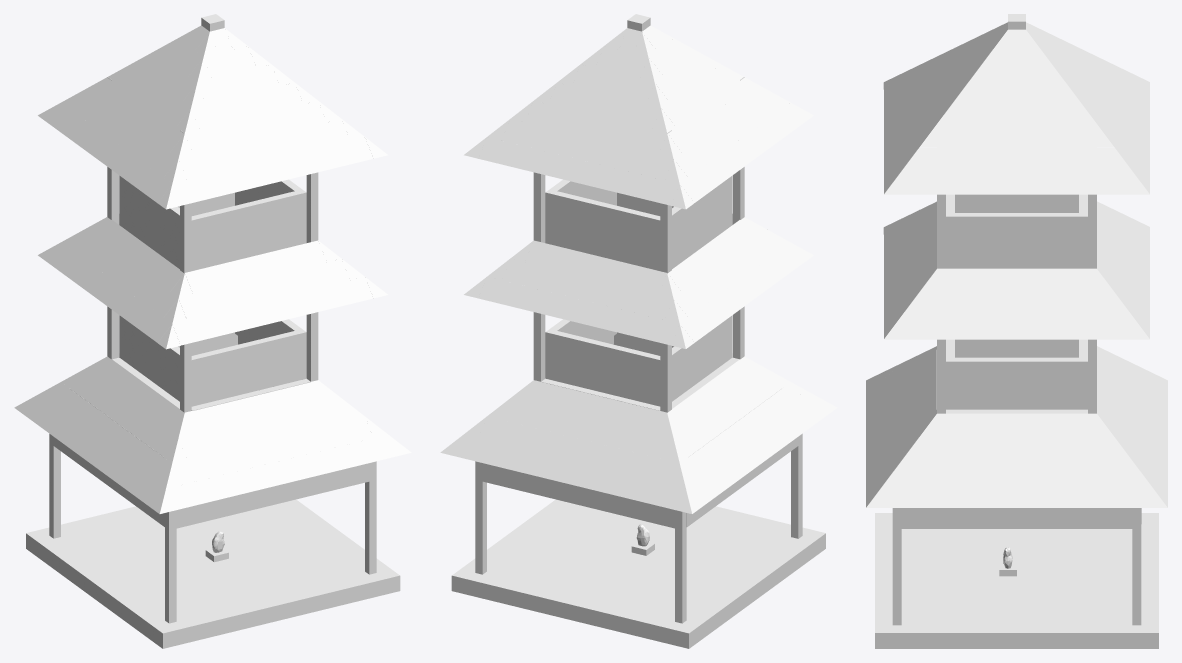
Rendered from start-movie01.glb.
3 renders of one model, left to right at view 1: azimuth 30°, elevation 25°; view 2: azimuth 150°, elevation 25°; view 3: azimuth 270°, elevation 25°, orthographic. The views are drawn at different scales.
Parts seen in each view (by area): view 1: ekihis; view 2: ekihis; view 3: ekihis.
Part boxes in pixels (x1,y1,x2,y2): ekihis: (14,14,411,648); ekihis: (440,14,837,648); ekihis: (866,14,1167,648).
Size of the model in its own units: 34 by 71 by 34.
106 materials, 106 textured.
